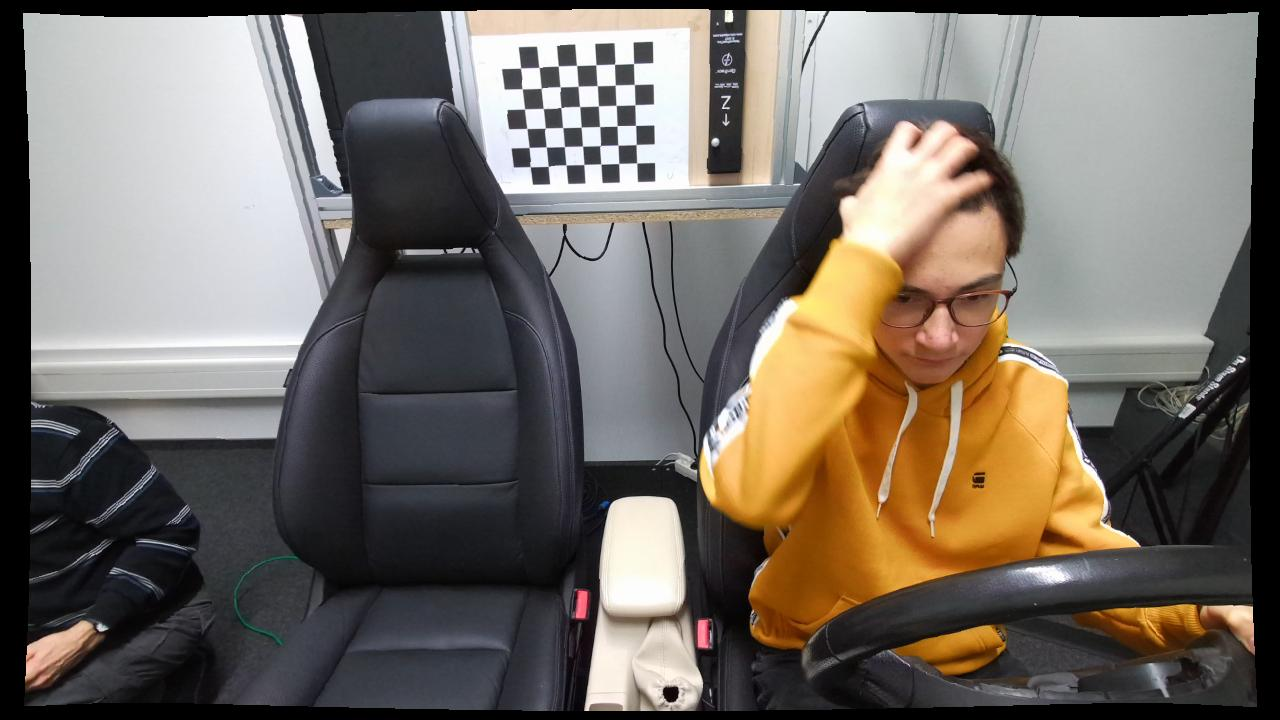Distracted: (697, 110, 1113, 709)
